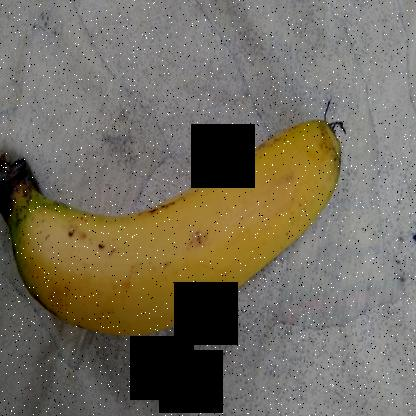freshripe: (6, 112, 348, 346)
